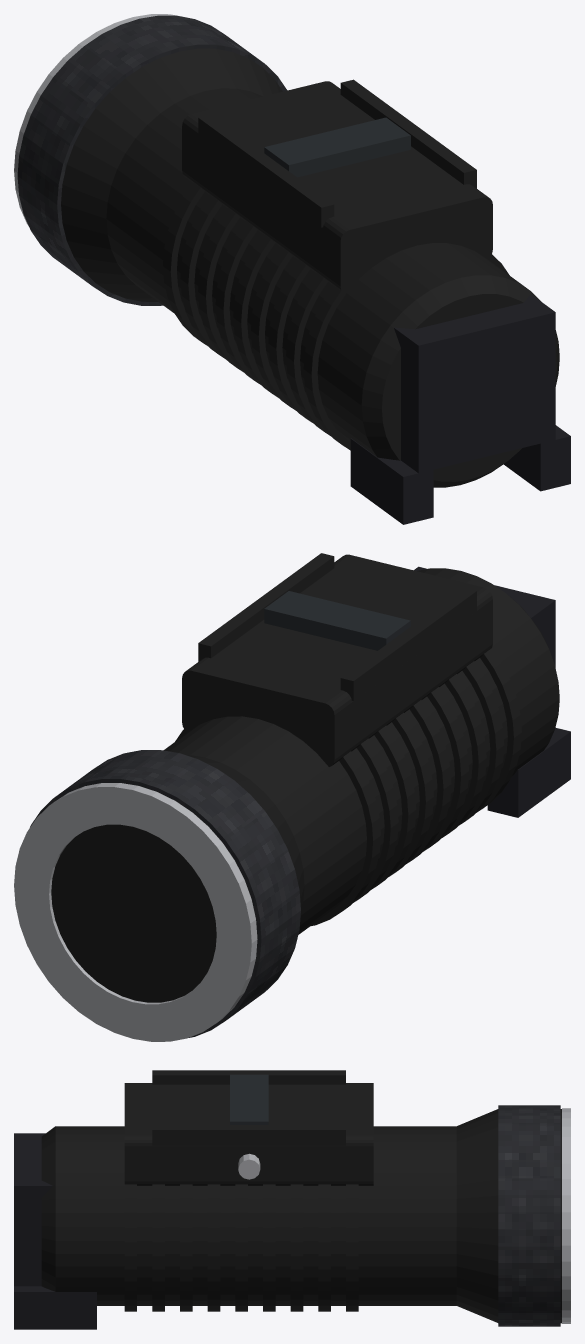
File: lanterna_pistola.glb
3 views of the same model, one above another, from view 1: azimuth 30°, elevation 25°; view 2: azimuth 150°, elevation 25°; view 3: azimuth 270°, elevation 25° (orthographic). The views are drawn at different scales.
Visible parts, largest first — view 1: lanterna_pistola_aluminio_preto, lanterna_pistola_borracha, lanterna_pistola_recartilhado, lanterna_pistola_aco_oxidado, lanterna_pistola_aco_inox; view 2: lanterna_pistola_aluminio_preto, lanterna_pistola_aco_inox, lanterna_pistola_recartilhado, lanterna_pistola_borracha, lanterna_pistola_aco_oxidado; view 3: lanterna_pistola_aluminio_preto, lanterna_pistola_recartilhado, lanterna_pistola_borracha, lanterna_pistola_aco_inox, lanterna_pistola_aco_oxidado.
Boxes of the visible parts, <box> form: lanterna_pistola_aluminio_preto: <box>61,48,559,487</box>; lanterna_pistola_borracha: <box>350,294,570,524</box>; lanterna_pistola_recartilhado: <box>17,15,287,305</box>; lanterna_pistola_aco_oxidado: <box>264,117,410,177</box>; lanterna_pistola_aco_inox: <box>14,14,186,225</box>; lanterna_pistola_aluminio_preto: <box>51,553,559,1002</box>; lanterna_pistola_aco_inox: <box>14,783,257,1041</box>; lanterna_pistola_recartilhado: <box>30,750,300,1037</box>; lanterna_pistola_borracha: <box>414,566,570,817</box>; lanterna_pistola_aco_oxidado: <box>264,591,410,650</box>; lanterna_pistola_aluminio_preto: <box>41,1070,561,1323</box>; lanterna_pistola_recartilhado: <box>498,1105,560,1326</box>; lanterna_pistola_borracha: <box>14,1133,96,1329</box>; lanterna_pistola_aco_inox: <box>238,1108,570,1323</box>; lanterna_pistola_aco_oxidado: <box>230,1074,268,1124</box>.
Size of the model in its own units: 0.032 by 0.0348 by 0.0805.
8 materials, 1 textured.
